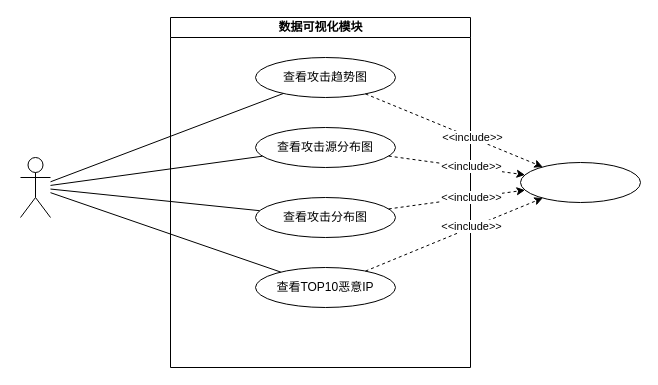
The diagram is 658 pixels wide and 385 high, and some of its shapes have lost their labels. The shapes that lost their labels are listed below. From the top down, each one's centre as x and y in pixels, then its label:
point 35,187: 管理员
point 580,182: 数据统计计算
